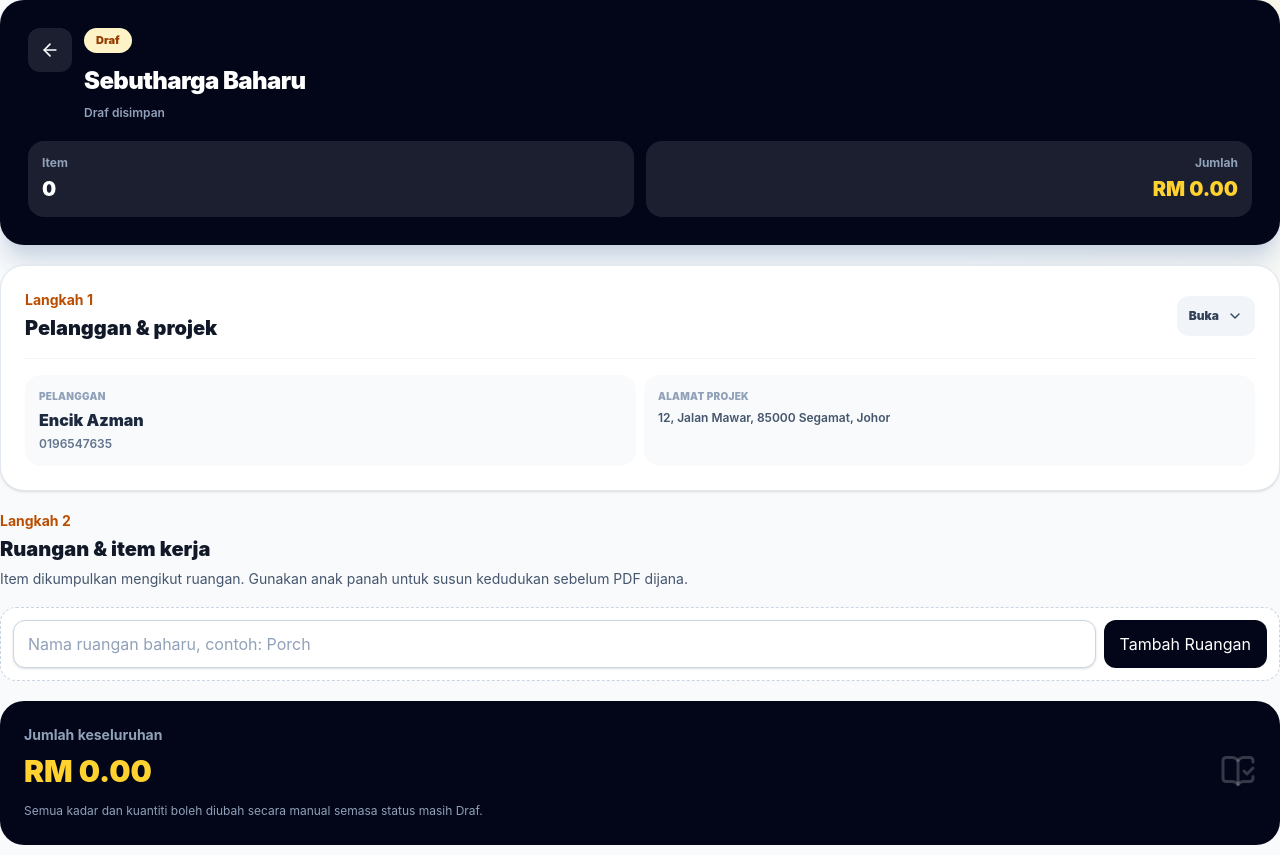
Test: QuotationComposer item recovery › keeps customer and project details collapsed by default
Expected: the text "0196547635" is shown, [39,436,112,450]
Expected: the text "12, Jalan Mawar, 85000 Segamat, Johor" is shown, [658,410,890,424]
Click the button "Langkah 1 Pelanggan & projek Buka" at point(59, 299), box [25,290,1255,342]
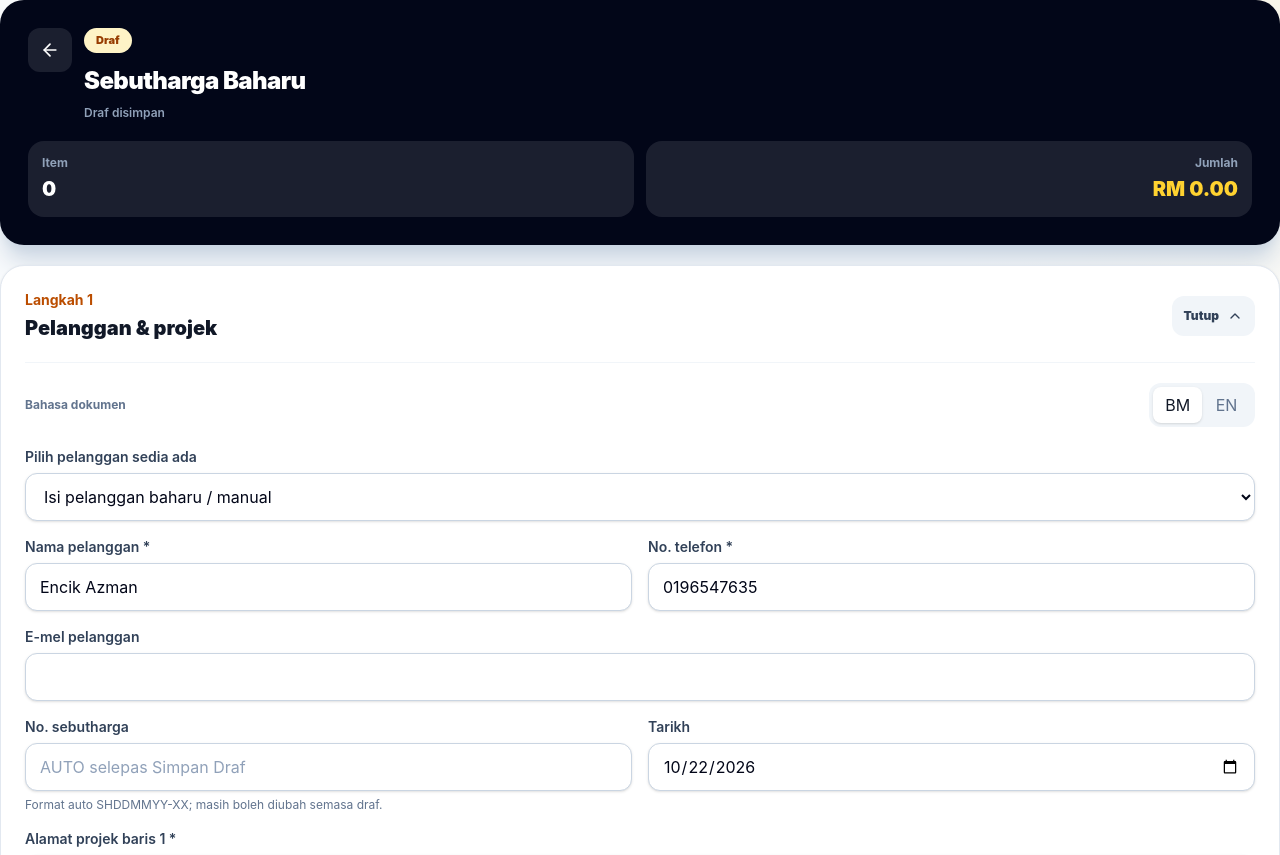
Result: the button "Langkah 1 Pelanggan & projek Tutup" is expanded
Result: the field labelled "Nama pelanggan *" holds "Encik Azman" at [25,562,632,610]
Click the button "Langkah 1 Pelanggan & projek Tutup" at point(59, 299), box [25,290,1255,342]
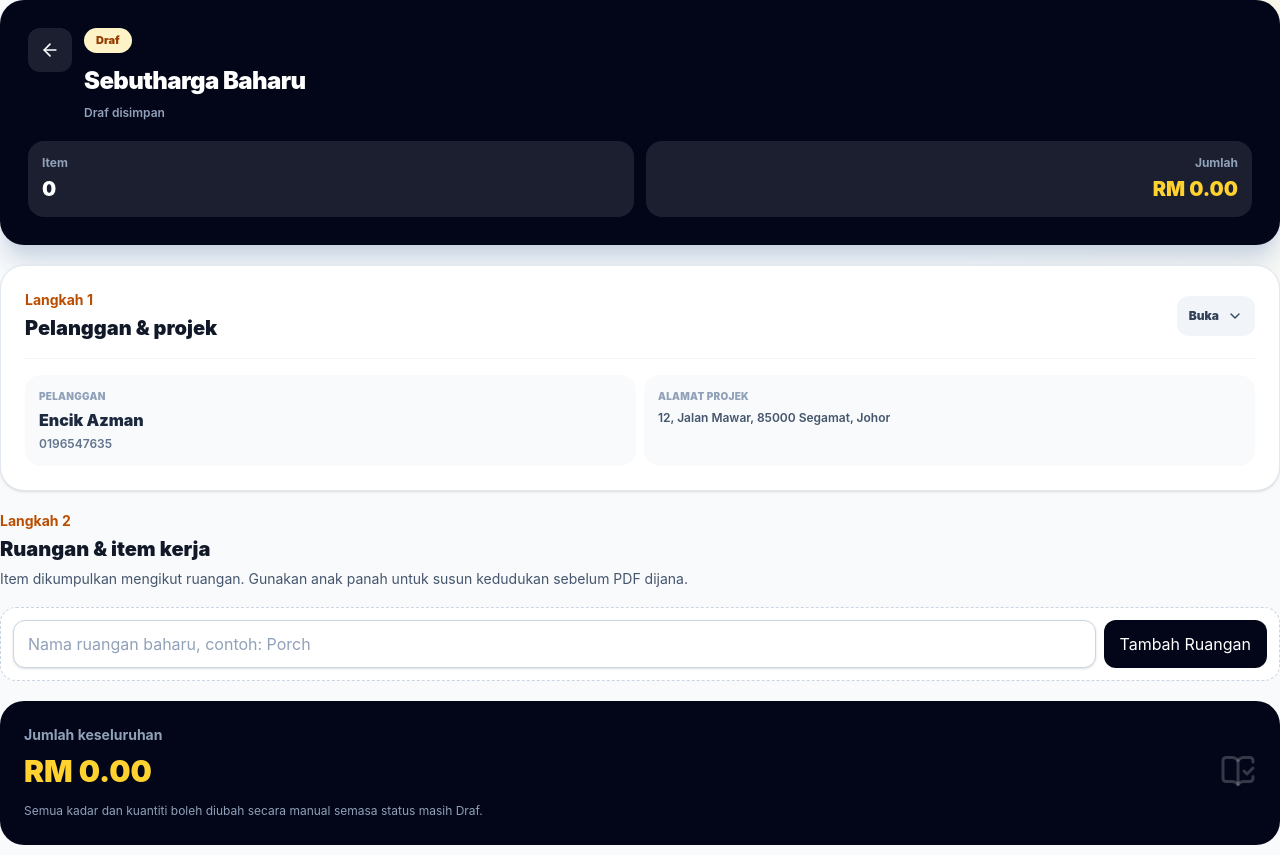
Result: the button "Langkah 1 Pelanggan & projek Buka" is collapsed at [25,290,1255,342]
Result: the text labelled "Nama pelanggan" is gone
